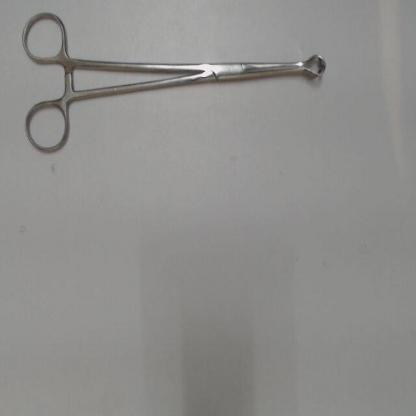8 Babcock Tissue Forceps: (18, 5, 330, 159)
